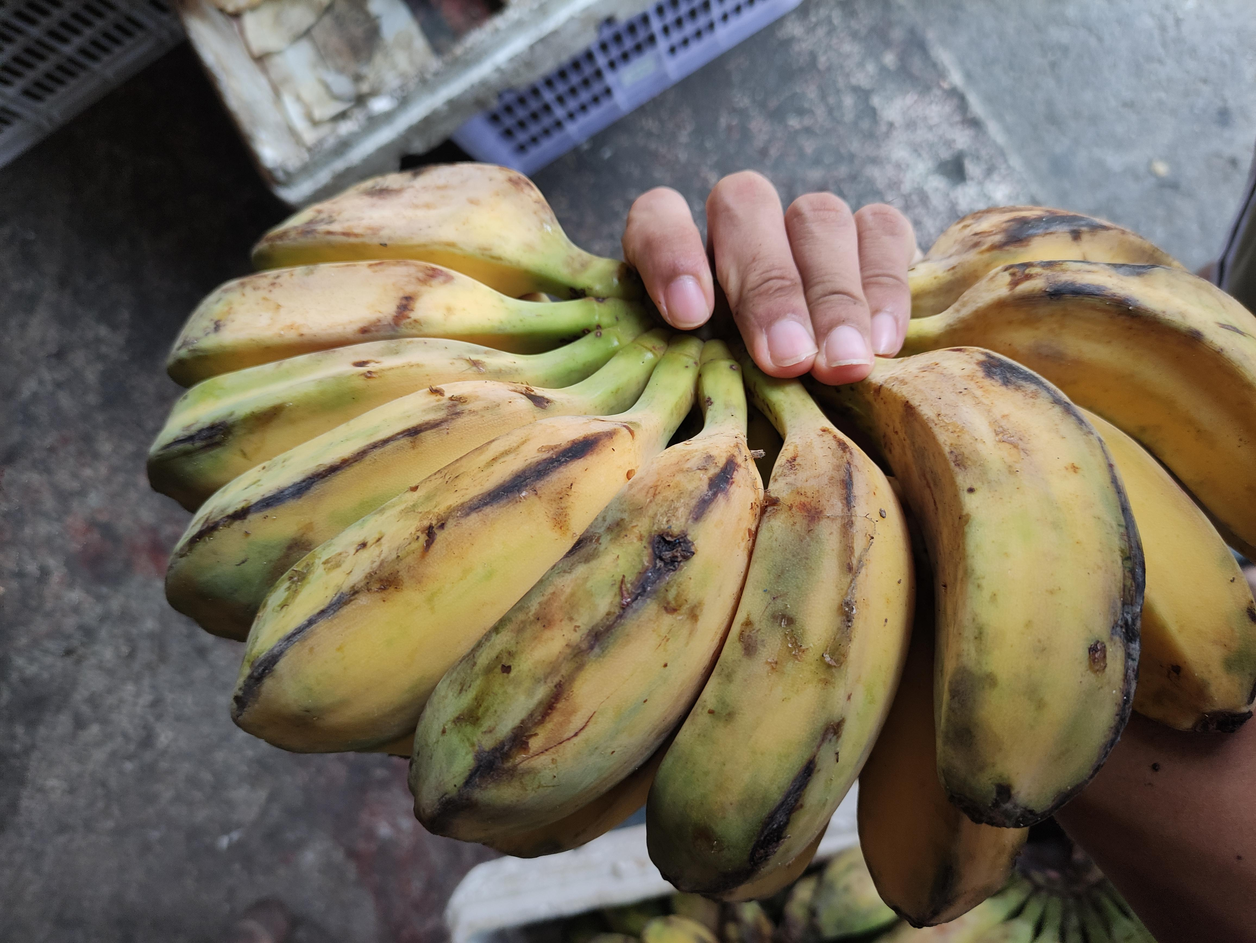underripe: (147, 164, 1256, 927)
